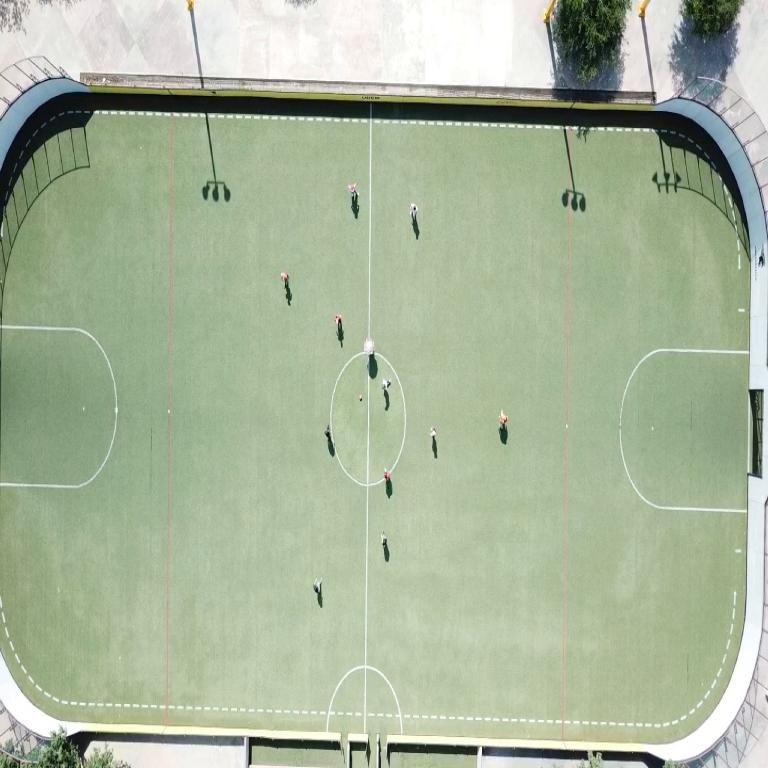AC: (0, 324, 118, 489), (619, 350, 748, 433), (619, 433, 746, 511)
B: (358, 394, 362, 400)
MC: (363, 359, 370, 731)
P: (348, 184, 357, 202), (312, 579, 322, 595), (500, 410, 508, 430), (364, 337, 374, 353), (410, 203, 418, 220), (281, 271, 289, 286), (382, 379, 391, 391), (324, 425, 331, 440), (335, 314, 341, 331), (430, 427, 436, 440), (385, 469, 390, 483), (382, 532, 386, 548)
